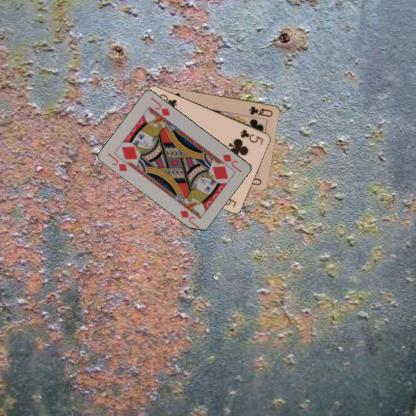5c: (237, 127, 264, 146)
Jd: (105, 150, 129, 173), (220, 151, 243, 174)
Qc: (247, 103, 274, 118)
